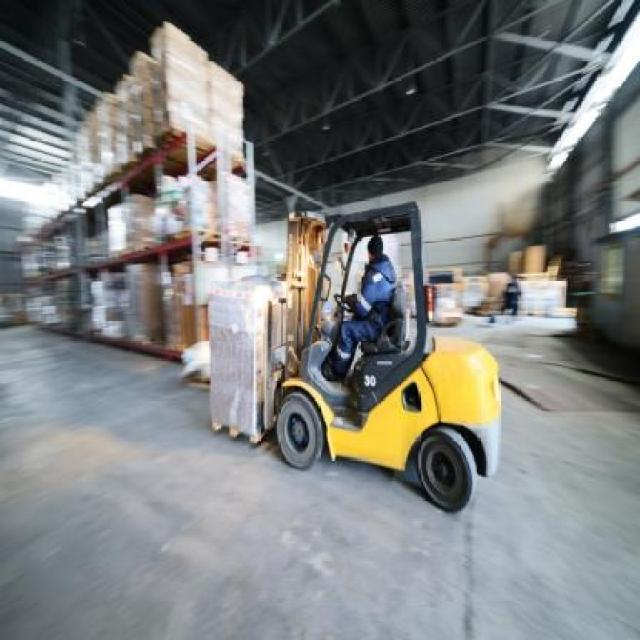forklift: (278, 199, 506, 516)
